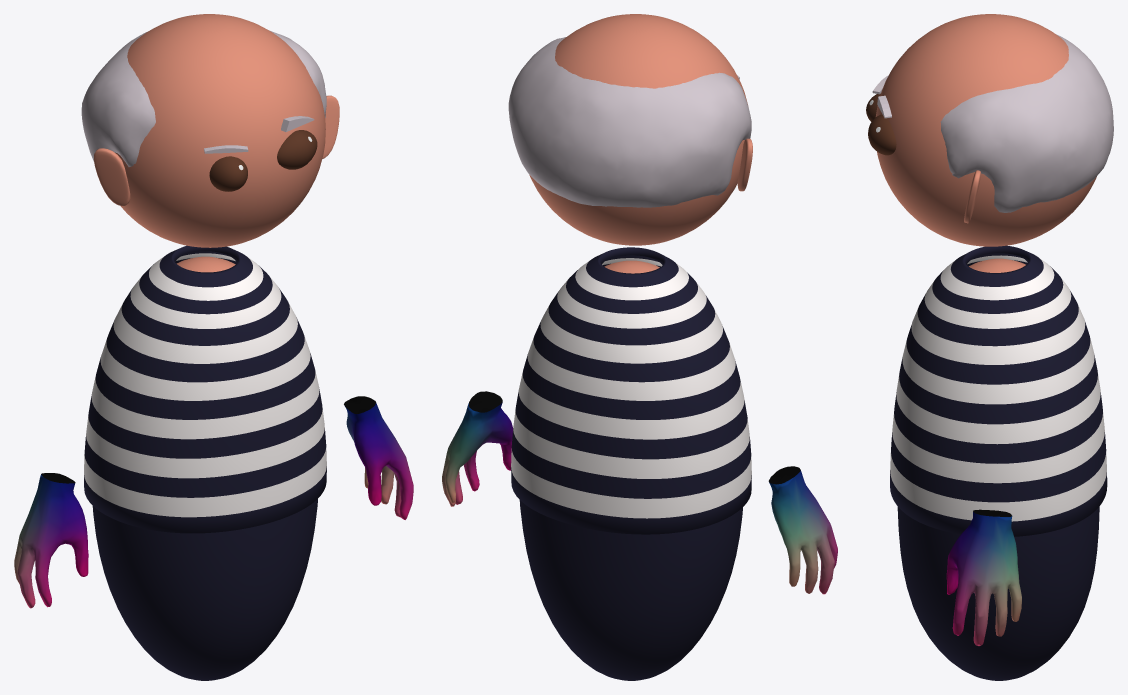
The model's file is PabloPicasso.fbx.
3 views of the same model, side by side, from view 1: azimuth 30°, elevation 25°; view 2: azimuth 150°, elevation 25°; view 3: azimuth 270°, elevation 25° (orthographic).
Visible parts, largest first — view 1: Body.005, Head.003, Body.003, Hands.004, Hair.004, Eyes.003, Cube.003, Cube.007; view 2: Body.005, Hair.004, Body.003, Head.003, Hands.004; view 3: Body.005, Head.003, Body.003, Hair.004, Hands.004, Eyes.003, Cube.003.
Part boxes in pixels (<box>): Body.005: <box>84,245,326,533</box>; Head.003: <box>115,14,325,247</box>; Body.003: <box>92,256,317,680</box>; Hands.004: <box>14,396,413,608</box>; Hair.004: <box>81,31,326,166</box>; Eyes.003: <box>209,130,317,191</box>; Cube.003: <box>94,95,339,205</box>; Cube.007: <box>204,116,314,153</box>; Body.005: <box>511,247,751,534</box>; Hair.004: <box>508,37,751,207</box>; Body.003: <box>519,260,742,680</box>; Head.003: <box>529,14,750,245</box>; Hands.004: <box>442,391,837,594</box>; Body.005: <box>890,245,1107,536</box>; Head.003: <box>875,14,1096,246</box>; Body.003: <box>897,258,1099,680</box>; Hair.004: <box>940,34,1113,212</box>; Hands.004: <box>946,509,1021,645</box>; Eyes.003: <box>866,93,896,155</box>; Cube.003: <box>964,170,980,223</box>.
Bounding box in the file's own units: 383 × 613 × 211.
